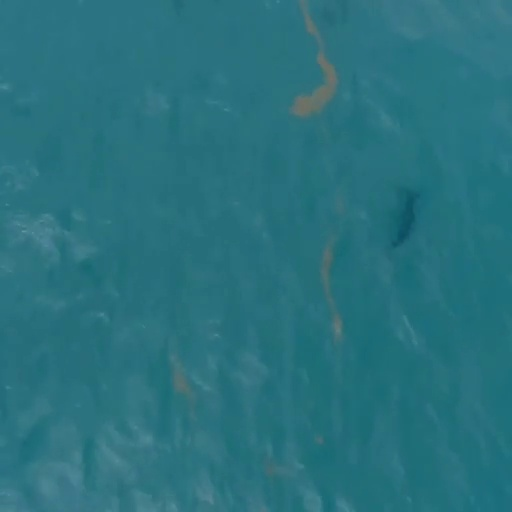shark: (387, 187, 423, 248)
